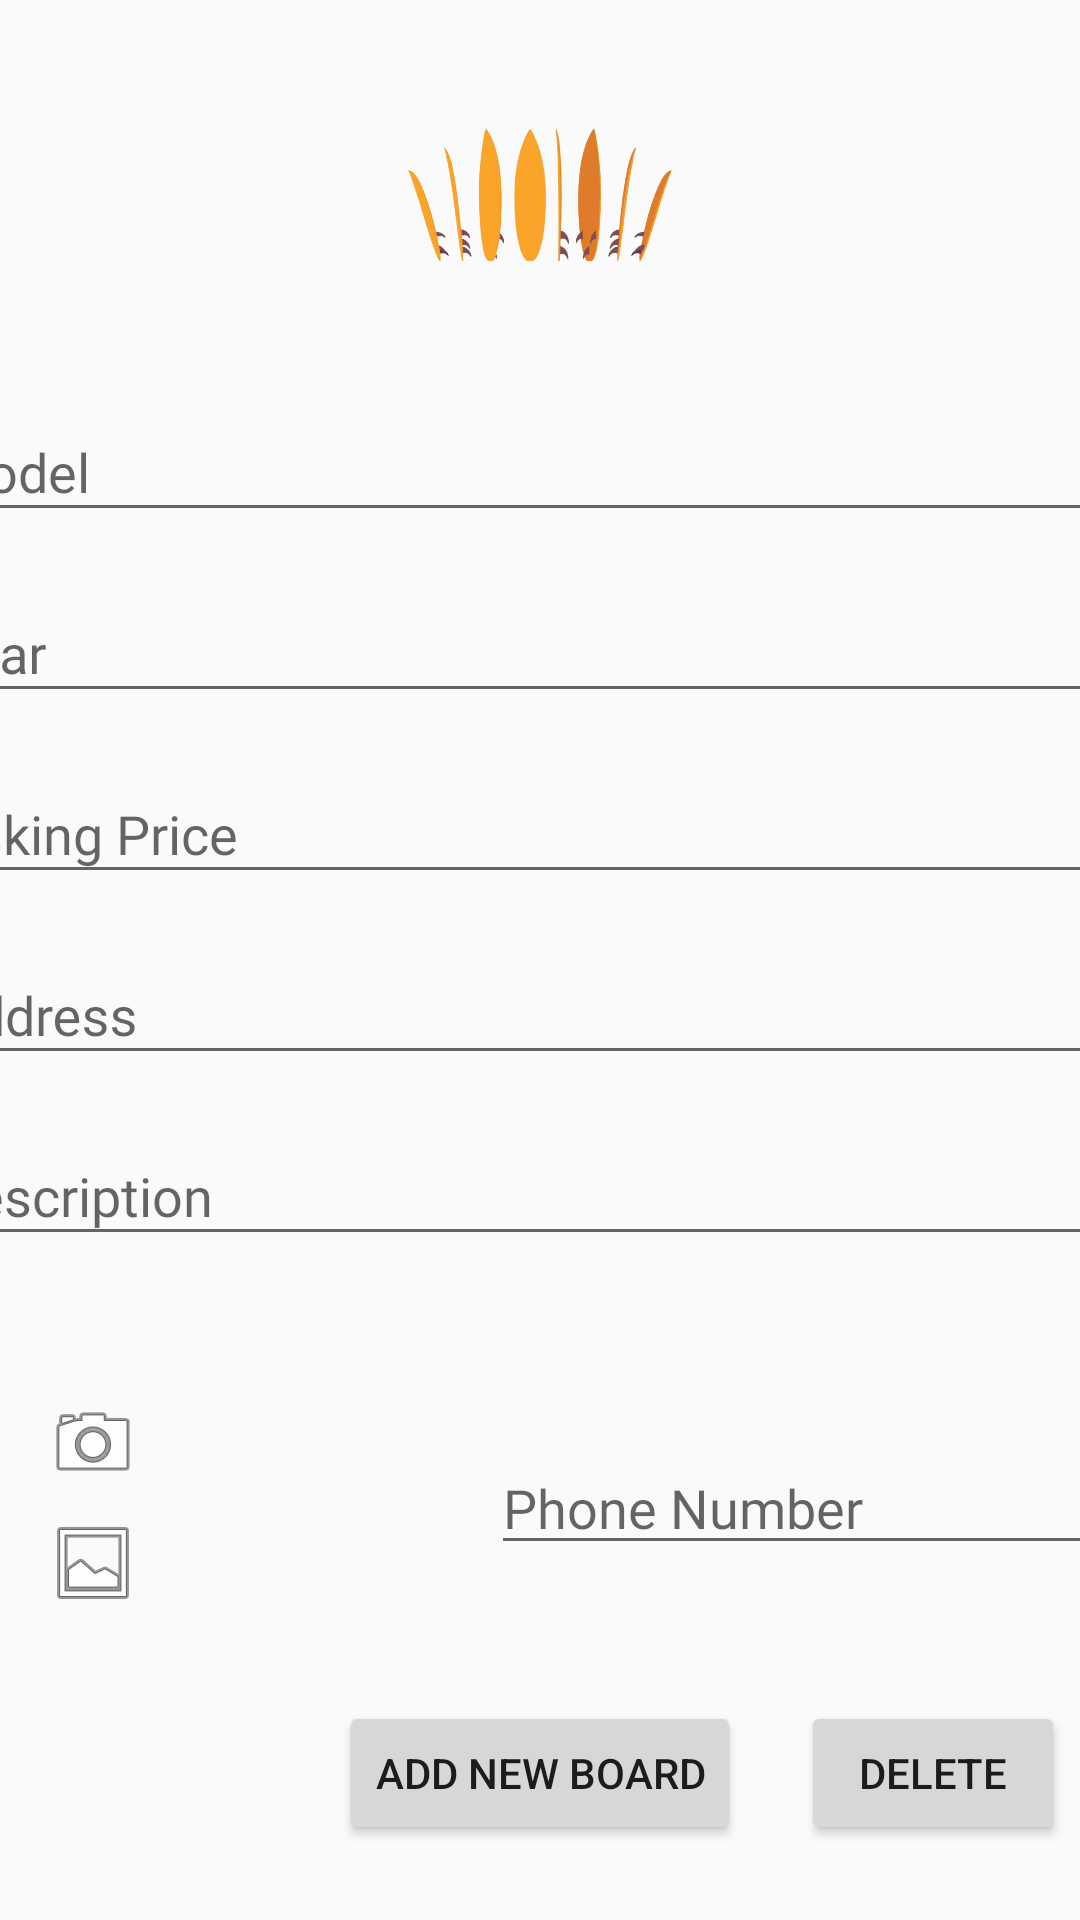

Locate icon controls on the screen. Image size 1080 × 1920, boxes as (x1, y1, x2, y2).
board: (408, 129, 672, 261)
camera: (56, 1412, 130, 1471)
gallery: (57, 1527, 129, 1599)
